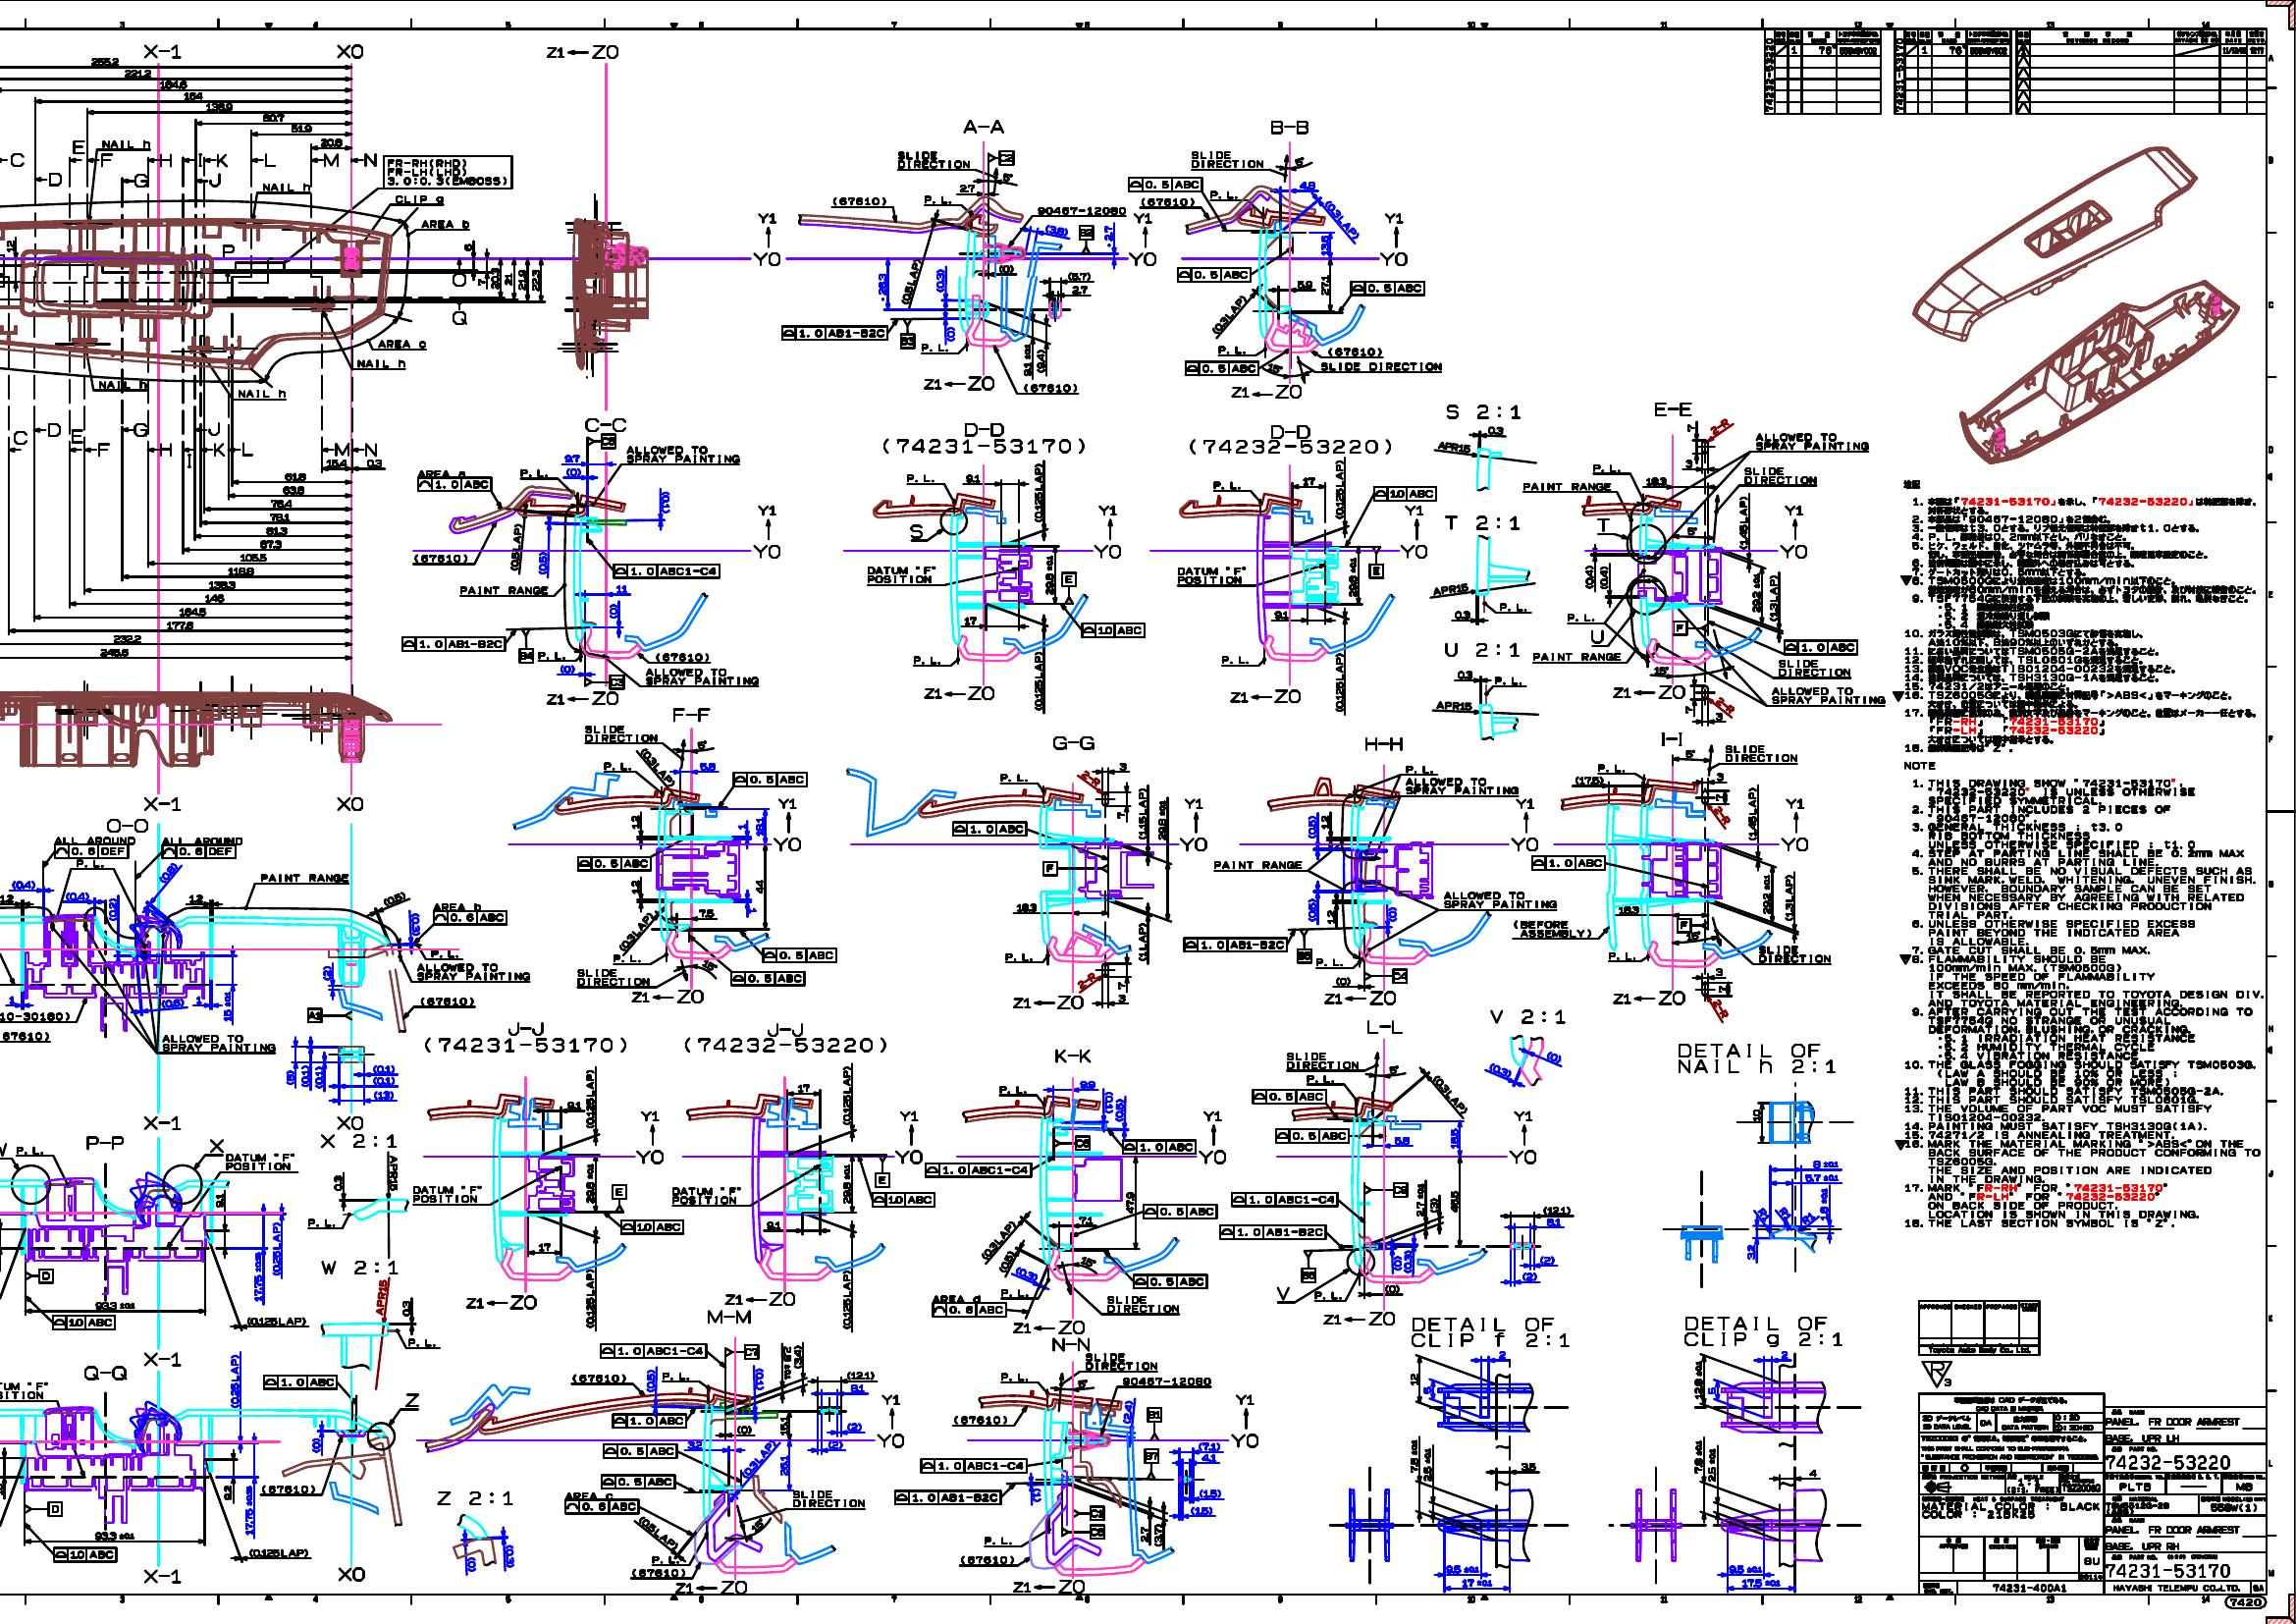anntotation_text: (1890, 478, 2264, 1229), (423, 1019, 627, 1053), (882, 422, 1084, 453), (1189, 424, 1391, 455), (683, 1023, 887, 1053), (1676, 1042, 1836, 1074), (1683, 1315, 1843, 1346), (1411, 1316, 1569, 1346), (383, 155, 511, 188), (645, 666, 759, 685), (1771, 685, 1885, 705), (416, 961, 531, 981), (625, 445, 740, 462), (1755, 432, 1869, 450), (1442, 891, 1556, 909), (162, 1033, 276, 1051), (1405, 777, 1518, 794), (53, 835, 135, 858), (931, 1294, 1007, 1316), (162, 837, 242, 858), (416, 468, 490, 490), (432, 902, 506, 924), (634, 1109, 664, 1165), (1230, 1394, 1260, 1448), (894, 1111, 924, 1165), (877, 1392, 905, 1448), (1179, 796, 1207, 852), (1198, 1109, 1226, 1165), (564, 1492, 638, 1513), (1507, 1111, 1535, 1165), (1511, 798, 1539, 852), (752, 504, 780, 559), (1780, 504, 1808, 559), (1093, 504, 1121, 559), (599, 1343, 706, 1357), (921, 1459, 1026, 1473), (1231, 1192, 1337, 1206), (1379, 213, 1407, 265), (1128, 213, 1156, 265), (782, 325, 887, 339), (926, 1162, 1029, 1176), (1400, 504, 1426, 559), (576, 967, 650, 986), (1725, 743, 1797, 763), (792, 1489, 864, 1508), (1191, 149, 1263, 169), (898, 149, 970, 169), (1781, 798, 1808, 851), (1513, 919, 1592, 937), (754, 213, 780, 265), (773, 798, 799, 851), (1444, 513, 1521, 531), (583, 724, 659, 742), (613, 564, 720, 576), (1758, 944, 1832, 961), (1084, 1352, 1158, 1369), (1743, 466, 1816, 483), (896, 1490, 1000, 1503), (1221, 1225, 1325, 1237), (1184, 939, 1288, 951), (1107, 1295, 1179, 1313), (1286, 1051, 1358, 1069), (1778, 659, 1850, 677), (402, 638, 504, 650), (225, 1153, 295, 1171), (866, 566, 936, 584), (436, 1489, 513, 1504), (320, 1132, 397, 1148), (413, 1185, 481, 1202), (671, 1186, 740, 1204), (1177, 566, 1245, 584), (1490, 1009, 1565, 1025), (1446, 404, 1521, 420), (1444, 642, 1520, 657), (1323, 990, 1397, 1005), (546, 44, 620, 60), (1613, 990, 1685, 1005), (1613, 684, 1685, 700), (1230, 383, 1302, 399), (922, 374, 994, 390), (466, 1294, 538, 1309), (320, 1260, 397, 1274), (1321, 362, 1442, 371), (1323, 1311, 1397, 1325), (1532, 856, 1606, 870), (1010, 1578, 1084, 1592), (613, 1413, 687, 1427), (603, 1445, 676, 1459), (264, 1374, 337, 1388), (1253, 1090, 1326, 1104), (1184, 360, 1258, 374), (1351, 281, 1425, 295), (733, 772, 806, 786), (631, 990, 704, 1004), (675, 1580, 747, 1594), (1012, 1320, 1084, 1334), (1275, 1128, 1347, 1142), (546, 691, 618, 705), (1785, 640, 1857, 654), (724, 1292, 796, 1306), (1144, 1204, 1216, 1218), (1012, 995, 1084, 1009), (578, 856, 650, 870), (922, 685, 994, 700), (53, 1547, 116, 1562), (1230, 689, 1300, 703), (460, 585, 548, 596), (601, 1476, 675, 1489), (1133, 1274, 1207, 1287), (1123, 1141, 1196, 1153), (762, 949, 836, 961), (731, 972, 805, 984), (1920, 1360, 1952, 1388), (1082, 622, 1145, 636), (1128, 178, 1200, 190), (1179, 269, 1251, 281), (954, 823, 1026, 835), (53, 1315, 114, 1329), (620, 1220, 682, 1234), (1374, 487, 1435, 501), (1123, 1376, 1212, 1385), (1214, 859, 1303, 868), (1036, 206, 1126, 214), (260, 874, 350, 882), (1532, 652, 1621, 661), (871, 1193, 935, 1206), (1523, 482, 1611, 490), (706, 1309, 752, 1325), (1052, 735, 1096, 750), (583, 417, 627, 432), (105, 817, 148, 833), (1333, 459, 1344, 520), (83, 1366, 126, 1380), (1051, 1336, 1089, 1352), (1655, 401, 1693, 417), (1270, 120, 1309, 135), (142, 1352, 181, 1367), (1054, 1048, 1093, 1063), (673, 707, 711, 722), (1326, 346, 1383, 357), (831, 195, 887, 206), (963, 120, 1005, 134), (144, 44, 181, 60), (144, 1568, 181, 1584), (959, 1554, 1014, 1564), (1363, 736, 1404, 750), (954, 1413, 1007, 1424), (655, 652, 708, 663), (271, 1222, 281, 1274), (1365, 1019, 1404, 1033), (246, 1316, 306, 1325), (585, 1269, 594, 1329), (585, 1069, 594, 1128), (841, 1065, 850, 1125), (1033, 462, 1042, 522), (1033, 650, 1042, 710), (86, 1135, 123, 1149), (144, 1116, 181, 1130), (144, 796, 181, 810), (841, 1271, 850, 1329), (634, 1527, 682, 1538), (1205, 309, 1253, 320), (571, 1374, 627, 1383), (1748, 786, 1757, 840), (631, 1568, 685, 1577), (413, 554, 467, 562), (1140, 197, 1195, 206), (1022, 383, 1077, 392), (230, 1353, 239, 1408), (262, 1485, 314, 1494), (1739, 496, 1748, 548), (1138, 787, 1147, 840), (355, 359, 406, 367), (420, 220, 471, 228), (337, 1566, 365, 1582), (336, 44, 364, 60), (973, 1236, 1022, 1244), (237, 388, 286, 397), (378, 339, 427, 348), (262, 183, 311, 192), (511, 522, 520, 571), (248, 1548, 307, 1555), (1426, 1090, 1474, 1098), (1783, 874, 1792, 921), (98, 380, 146, 388), (102, 139, 149, 148), (395, 195, 443, 204), (887, 278, 935, 286), (1318, 214, 1365, 223), (611, 926, 659, 935), (634, 763, 682, 772), (1335, 652, 1342, 710), (736, 1454, 782, 1462), (336, 796, 364, 810), (1435, 700, 1472, 710), (420, 997, 474, 1004), (1660, 731, 1683, 747), (376, 1278, 385, 1316), (1138, 923, 1147, 961), (1769, 575, 1776, 622), (388, 1155, 397, 1192), (1432, 584, 1469, 592), (76, 858, 104, 868), (1437, 441, 1470, 450), (332, 441, 350, 457), (1000, 1371, 1029, 1380), (1000, 1288, 1029, 1297), (1209, 190, 1238, 199), (1493, 675, 1523, 684), (404, 1392, 420, 1408), (132, 422, 148, 438), (1597, 763, 1625, 772), (1607, 951, 1635, 960), (1405, 765, 1433, 773), (984, 1536, 1012, 1545), (650, 1554, 678, 1562), (1305, 1074, 1333, 1083), (520, 468, 548, 476), (538, 650, 566, 659), (906, 473, 935, 482), (1217, 344, 1245, 353), (921, 343, 949, 352), (408, 1338, 436, 1346), (307, 1218, 336, 1227), (998, 1084, 1026, 1093), (1000, 773, 1028, 782), (1005, 953, 1033, 961), (603, 761, 631, 770), (430, 949, 458, 958), (913, 656, 942, 664), (1212, 480, 1240, 489), (1221, 656, 1249, 664), (1498, 601, 1527, 610), (662, 1371, 689, 1380), (1316, 958, 1342, 967), (924, 195, 950, 204), (613, 953, 639, 961), (1567, 613, 1593, 622), (1676, 917, 1692, 932), (1302, 1267, 1316, 1283), (72, 139, 86, 155), (134, 172, 148, 188), (207, 172, 221, 188), (323, 153, 339, 167), (47, 1501, 61, 1517), (209, 1137, 223, 1153), (1042, 861, 1058, 875), (364, 441, 378, 457), (97, 441, 111, 457), (47, 422, 61, 438), (12, 431, 28, 445), (1592, 464, 1621, 471), (1089, 1504, 1103, 1519), (1091, 1524, 1105, 1538), (1275, 1287, 1289, 1301), (1314, 1292, 1342, 1299), (1393, 968, 1407, 982), (451, 272, 466, 286), (11, 153, 25, 167), (47, 172, 61, 186), (100, 153, 114, 167), (610, 675, 624, 689), (1079, 225, 1093, 239), (899, 334, 913, 348), (39, 1269, 53, 1283), (16, 1146, 44, 1153), (611, 1185, 625, 1199), (875, 1172, 889, 1186), (1075, 1135, 1089, 1149), (307, 1009, 321, 1023), (908, 524, 922, 538), (1590, 629, 1604, 643), (1296, 949, 1312, 961), (451, 311, 467, 323), (216, 153, 228, 169), (603, 432, 615, 448), (241, 441, 253, 457), (207, 422, 220, 438), (213, 441, 225, 457), (160, 441, 172, 457), (70, 429, 83, 445), (1597, 517, 1609, 533), (221, 244, 235, 257), (1147, 1408, 1161, 1420), (1145, 1448, 1158, 1462), (745, 1345, 757, 1359), (1393, 1183, 1407, 1195), (160, 153, 172, 167), (264, 153, 276, 167), (364, 153, 378, 165), (520, 649, 532, 663), (1674, 620, 1686, 634), (1000, 151, 1014, 163), (1370, 564, 1383, 578), (1061, 573, 1073, 585), (197, 153, 202, 167), (186, 453, 191, 468)
dimension_text: (244, 1485, 253, 1536), (253, 1251, 262, 1302), (585, 1162, 596, 1204), (1709, 417, 1730, 434), (1751, 573, 1760, 613), (841, 1164, 850, 1204), (1045, 555, 1054, 596), (1347, 557, 1356, 598), (1741, 1578, 1781, 1587), (95, 1531, 135, 1540), (95, 1301, 135, 1309), (1715, 696, 1734, 714), (1693, 1360, 1702, 1399), (1045, 223, 1068, 237), (1693, 1439, 1702, 1475), (1708, 1446, 1716, 1482), (782, 1345, 791, 1380), (1423, 1446, 1432, 1482), (1409, 1438, 1418, 1473), (1080, 770, 1100, 786), (1713, 998, 1729, 1018), (160, 79, 188, 90), (1729, 1564, 1762, 1573), (1416, 1183, 1425, 1216), (1446, 1564, 1479, 1573), (1762, 874, 1769, 914), (1158, 800, 1165, 840), (90, 56, 119, 65), (1574, 775, 1604, 784), (1022, 344, 1031, 374), (1462, 1578, 1491, 1587), (207, 580, 235, 589), (227, 566, 255, 575), (239, 554, 267, 562), (123, 69, 151, 77), (165, 620, 193, 629), (847, 1371, 875, 1380), (1804, 1174, 1839, 1181), (994, 1257, 1017, 1267), (504, 1545, 515, 1568), (1820, 1186, 1827, 1220), (179, 606, 206, 615), (516, 269, 527, 290), (1124, 1192, 1135, 1213), (1585, 564, 1593, 589), (1014, 1269, 1038, 1278), (11, 881, 35, 889), (65, 891, 90, 900), (792, 1345, 801, 1369), (1404, 1250, 1412, 1274), (1488, 1065, 1513, 1074), (1307, 898, 1316, 923), (1066, 271, 1091, 279), (1036, 348, 1045, 373), (223, 991, 230, 1021), (98, 649, 128, 656), (1599, 566, 1607, 589), (265, 526, 288, 534), (281, 485, 304, 494), (320, 137, 343, 146), (290, 123, 313, 132), (531, 269, 539, 292), (538, 552, 546, 575), (411, 912, 420, 935), (383, 893, 406, 902), (162, 998, 184, 1007), (107, 898, 116, 921), (156, 868, 179, 877), (755, 1367, 764, 1390), (646, 1369, 655, 1392), (1105, 1091, 1114, 1114), (1114, 1098, 1123, 1121), (1449, 1127, 1458, 1149), (1449, 1190, 1458, 1213), (1307, 816, 1316, 838), (936, 269, 945, 292), (1075, 975, 1098, 984), (1198, 1443, 1221, 1452), (1123, 1401, 1131, 1424), (112, 634, 141, 642), (1542, 1206, 1570, 1213), (204, 592, 225, 601), (260, 540, 281, 548), (206, 104, 232, 111), (183, 91, 204, 100), (372, 1090, 393, 1098), (1813, 1160, 1839, 1167), (1618, 905, 1639, 914), (1321, 274, 1330, 295), (1200, 1489, 1221, 1497), (1191, 1506, 1212, 1515), (1801, 1211, 1815, 1223), (1154, 1522, 1161, 1547), (1017, 902, 1036, 910), (1646, 476, 1665, 485), (780, 1455, 789, 1475), (1080, 1257, 1096, 1267), (701, 960, 717, 970), (321, 965, 332, 981), (1455, 610, 1470, 620), (1546, 1051, 1562, 1062), (283, 473, 306, 480), (262, 114, 285, 121), (662, 490, 669, 513), (372, 1065, 395, 1072), (372, 1076, 395, 1083), (314, 1065, 321, 1088), (878, 272, 885, 295), (332, 1174, 341, 1192), (1298, 181, 1316, 190), (1757, 1207, 1769, 1220), (750, 1519, 762, 1531), (269, 513, 290, 520), (271, 499, 292, 506), (327, 459, 348, 466), (966, 473, 980, 483), (300, 1065, 307, 1086), (1274, 610, 1288, 620), (566, 1100, 581, 1109), (490, 274, 499, 290), (564, 453, 580, 462), (697, 909, 713, 917), (699, 763, 715, 772), (188, 893, 204, 902), (286, 1069, 295, 1084), (1456, 670, 1472, 678), (1488, 425, 1504, 434), (311, 1438, 320, 1454), (223, 1485, 232, 1501), (402, 1301, 411, 1316), (1393, 1135, 1409, 1144), (1384, 1285, 1400, 1294), (1393, 1255, 1402, 1271), (1539, 1255, 1555, 1264), (1521, 1271, 1537, 1280), (1746, 1244, 1755, 1260), (1388, 907, 1397, 923), (1326, 909, 1335, 924), (1296, 279, 1312, 288), (1267, 364, 1282, 373), (1103, 225, 1112, 241), (1072, 285, 1087, 294), (998, 264, 1014, 272), (959, 183, 975, 192), (947, 325, 956, 341), (1033, 1487, 1042, 1503), (736, 1425, 752, 1434), (827, 1441, 843, 1450), (847, 1422, 863, 1431), (755, 816, 762, 835), (1321, 236, 1328, 255), (780, 1417, 787, 1436), (1780, 1207, 1790, 1220), (766, 1220, 780, 1229), (504, 272, 513, 286), (560, 664, 574, 673), (608, 605, 617, 619), (615, 584, 629, 592), (1079, 1216, 1093, 1225), (631, 814, 639, 828), (850, 1383, 864, 1392), (467, 1557, 476, 1571), (214, 1193, 223, 1207), (1079, 1081, 1096, 1088), (1430, 1199, 1439, 1213), (1686, 932, 1700, 940), (1521, 1462, 1535, 1471), (1140, 1526, 1147, 1543), (365, 459, 381, 466), (566, 468, 581, 475), (1200, 1454, 1216, 1461), (687, 1441, 703, 1448), (798, 1083, 810, 1091), (5, 239, 14, 251), (755, 881, 764, 893), (631, 881, 639, 893), (964, 615, 977, 624), (1303, 476, 1316, 485), (538, 1243, 550, 1251), (1409, 1373, 1418, 1385), (1655, 666, 1669, 673), (1546, 1218, 1560, 1225), (1321, 816, 1328, 830), (1686, 526, 1697, 534), (696, 740, 706, 749), (1751, 1109, 1760, 1120), (1685, 749, 1695, 758), (1293, 156, 1303, 165), (1003, 172, 1014, 181), (1117, 993, 1126, 1002), (1390, 1065, 1398, 1074), (1715, 967, 1723, 975), (1715, 793, 1723, 801), (1116, 810, 1124, 819), (1079, 1378, 1087, 1387), (1716, 772, 1723, 782), (1715, 712, 1723, 719), (1685, 705, 1692, 714), (478, 278, 485, 286), (1117, 981, 1124, 990), (195, 995, 202, 1004), (1685, 459, 1692, 468), (1718, 984, 1725, 993), (1119, 763, 1126, 772), (1808, 1469, 1816, 1476), (1708, 1387, 1716, 1394), (1781, 1350, 1788, 1359), (1498, 1350, 1505, 1359), (1423, 1387, 1432, 1394), (464, 243, 471, 250), (748, 907, 755, 914), (1686, 424, 1693, 431), (9, 995, 14, 1004), (738, 823, 745, 828)
object: (1910, 144, 2240, 466), (423, 1381, 840, 1575), (845, 766, 1156, 963), (0, 216, 393, 371), (0, 912, 409, 1035), (2, 1406, 402, 1527), (511, 772, 769, 960), (1289, 1095, 1535, 1285), (448, 483, 708, 659), (1267, 775, 1491, 967), (1560, 777, 1773, 968), (961, 1095, 1179, 1281), (798, 195, 1063, 348), (978, 1388, 1191, 1577), (685, 1093, 887, 1283), (427, 1091, 627, 1280), (871, 490, 1087, 663), (1179, 492, 1397, 663), (1630, 1380, 1825, 1562), (1347, 1381, 1534, 1562), (1581, 494, 1762, 666), (0, 689, 393, 768), (1184, 185, 1365, 353), (0, 1176, 230, 1295), (1679, 1100, 1816, 1262), (571, 218, 650, 371), (1476, 533, 1530, 596), (320, 1320, 388, 1369), (1507, 1033, 1542, 1090), (1477, 703, 1518, 740), (351, 1199, 408, 1220), (1476, 446, 1502, 490)
title_block: (1918, 1394, 2266, 1594), (2017, 28, 2266, 114), (1764, 28, 1881, 114), (1894, 28, 2010, 112), (1918, 1301, 2040, 1355)
